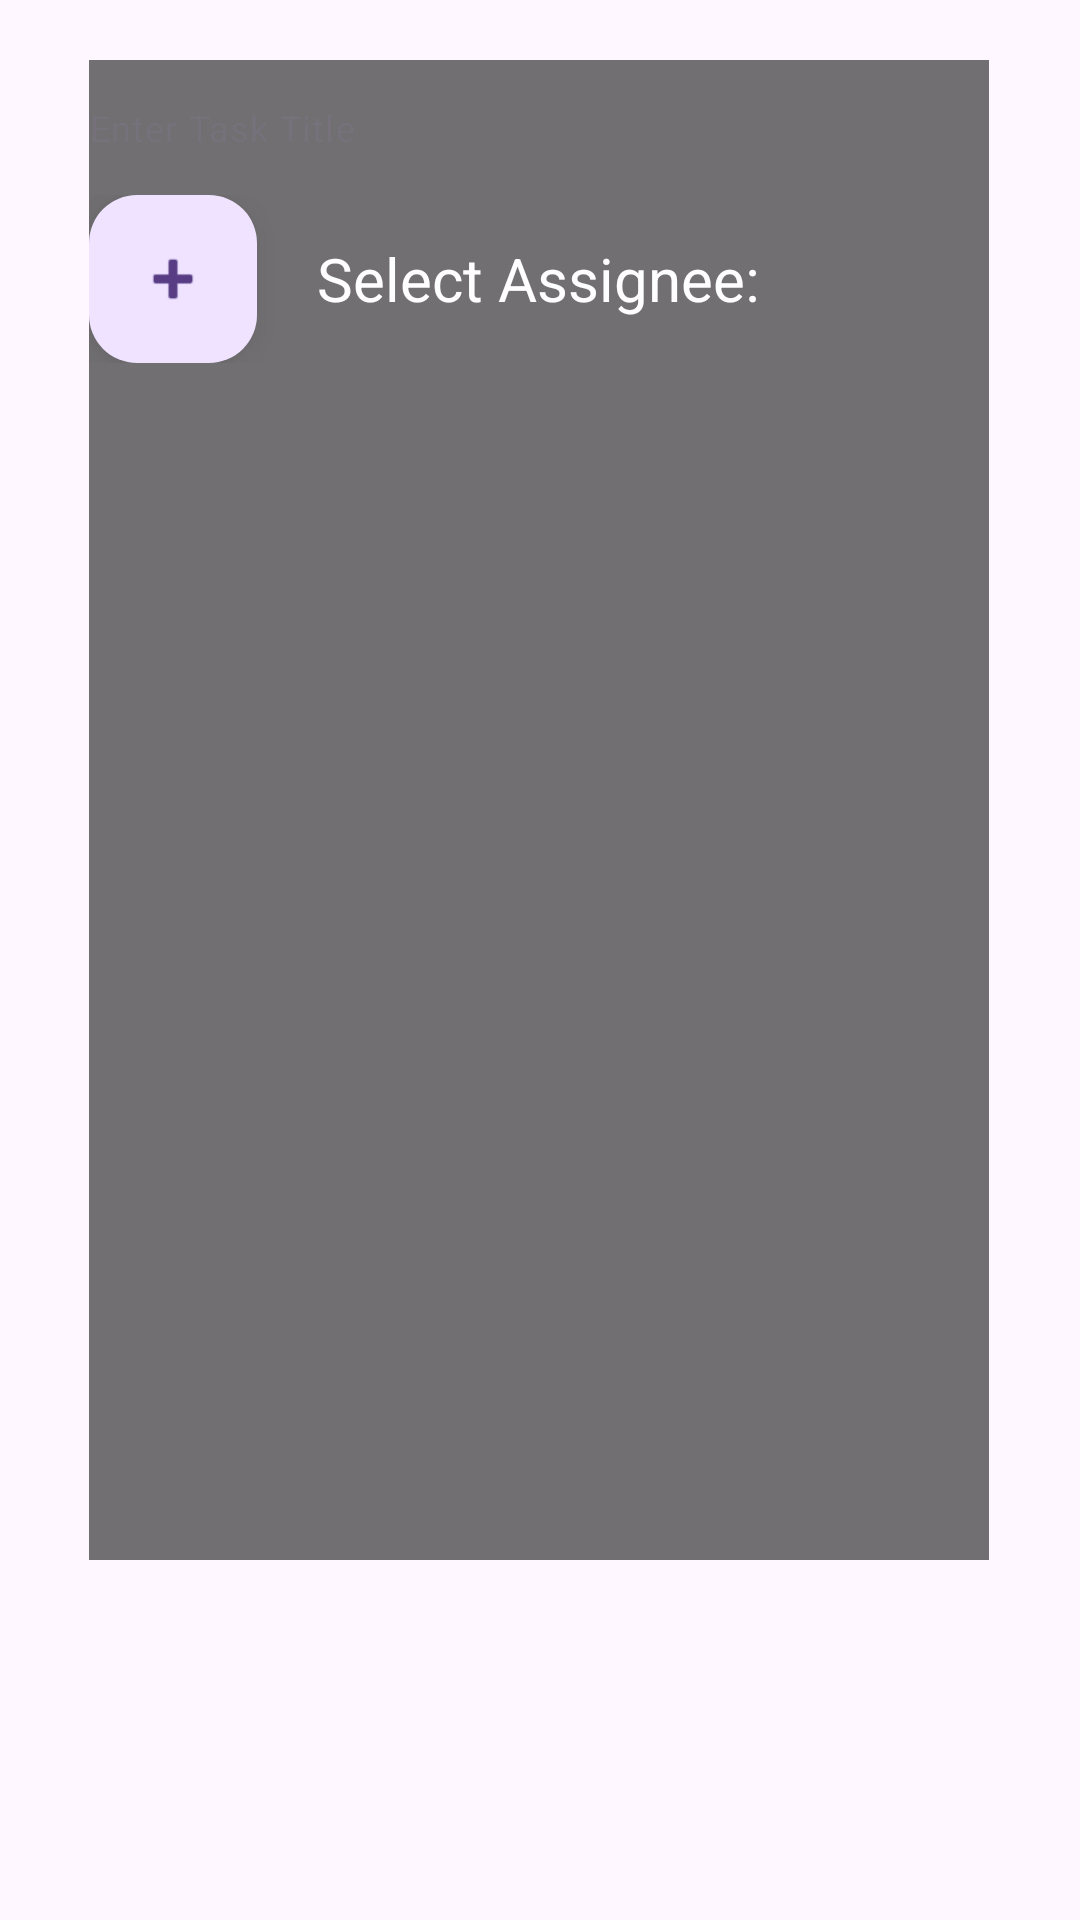

Icon click points for this 1080 × 1920 phone screenshot, format point (x, y):
add: point (173, 279)
